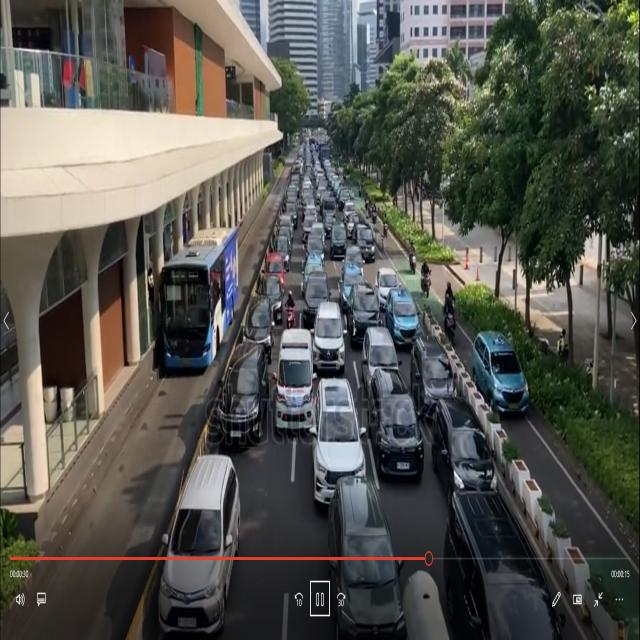Ambulance: (277, 324, 313, 438)
